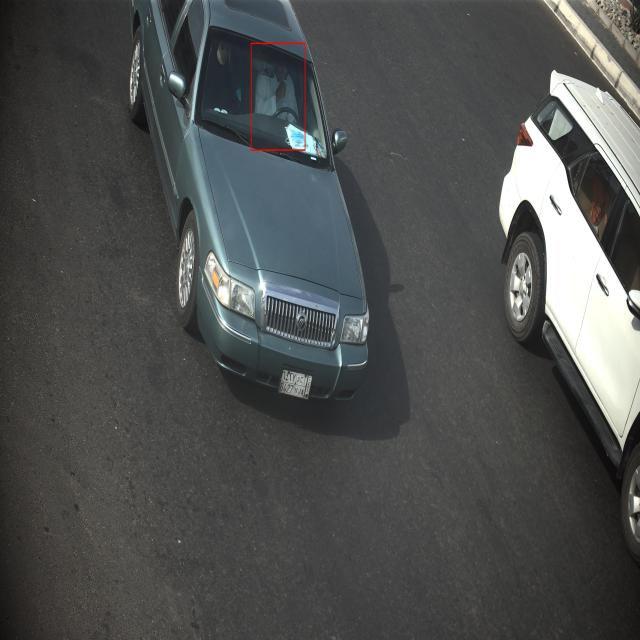windshield: (195, 21, 334, 176)
